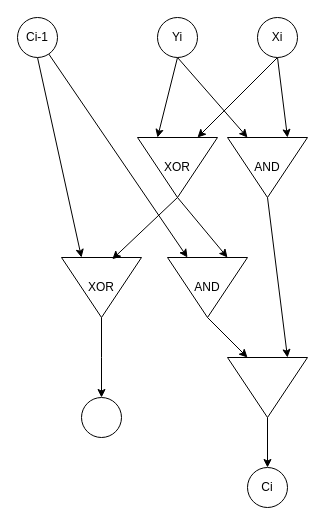
The diagram is 325 pixels wide and 525 high, and some of its shapes have lost their labels. Each missing label, with the box of its shape:
OR: (226, 356, 308, 418)
Zi: (80, 396, 122, 438)
